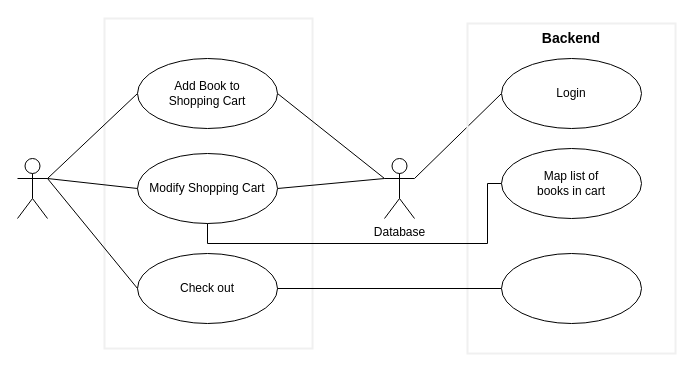
Some shapes in this 694 by 371 pixel diagram are drawn without their labels. The shapes that lost their labels are listed below. From the top down, each one's box as (x1, y1, x2, y2) in pixels, then its label:
(16, 158, 48, 218): User
(103, 17, 313, 349): Frontend
(500, 252, 642, 324): Transaction System
